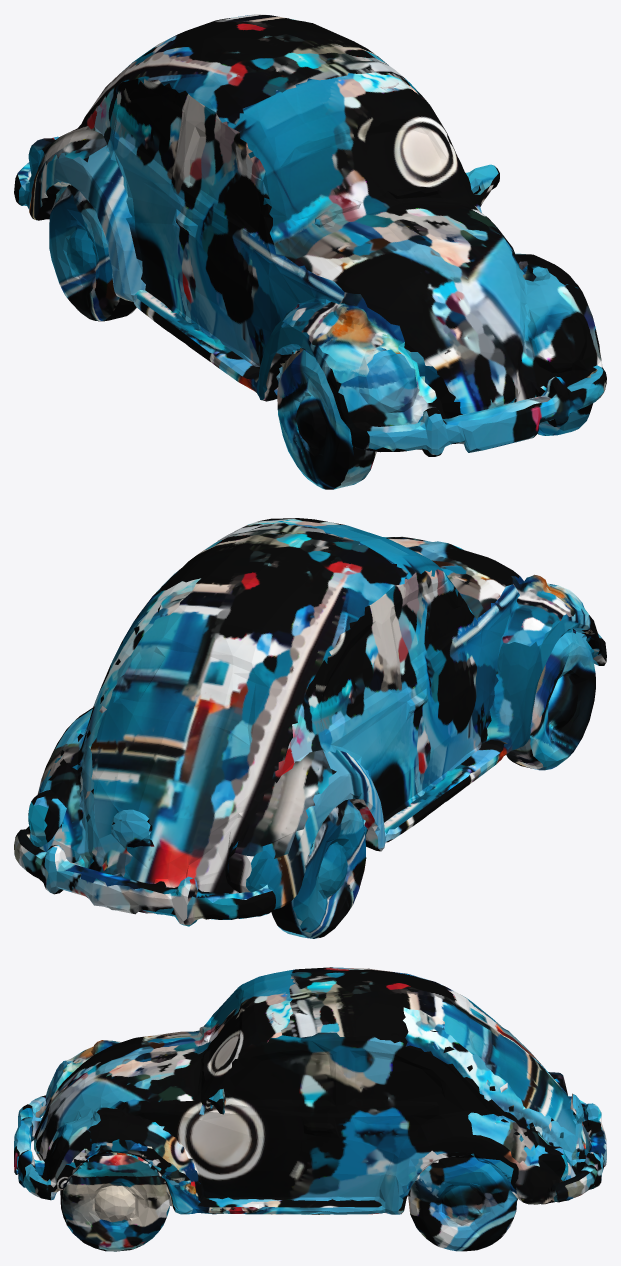
Rendered from fusca-ia.glb.
The picture shows the model from 3 angles, top to bottom: view 1: azimuth 30°, elevation 25°; view 2: azimuth 150°, elevation 25°; view 3: azimuth 270°, elevation 25°; orthographic projection. The views are drawn at different scales.
Parts seen in each view (by area): view 1: geometry_0; view 2: geometry_0; view 3: geometry_0.
Part boxes in pixels (x1,y1,x2,y2): geometry_0: (14, 14, 606, 489); geometry_0: (14, 518, 606, 938); geometry_0: (14, 967, 606, 1251).
Size of the model in its own units: 0.7935 by 0.8307 by 1.99.
1 material, 1 textured.
